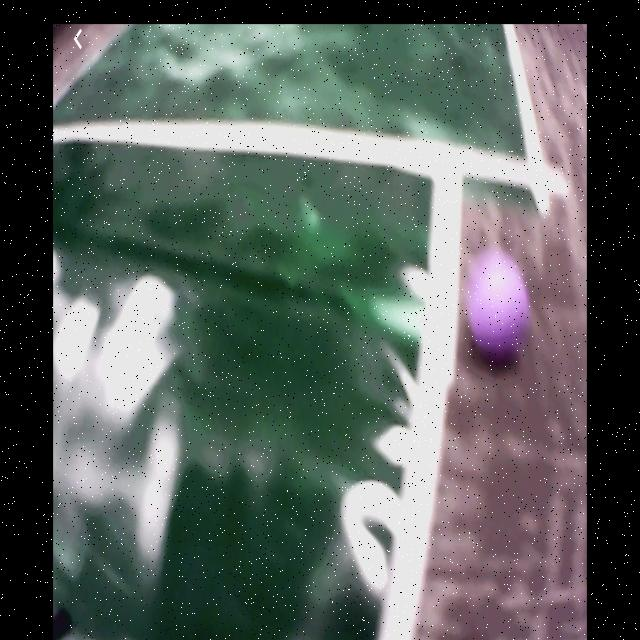ball: (468, 261, 533, 364)
